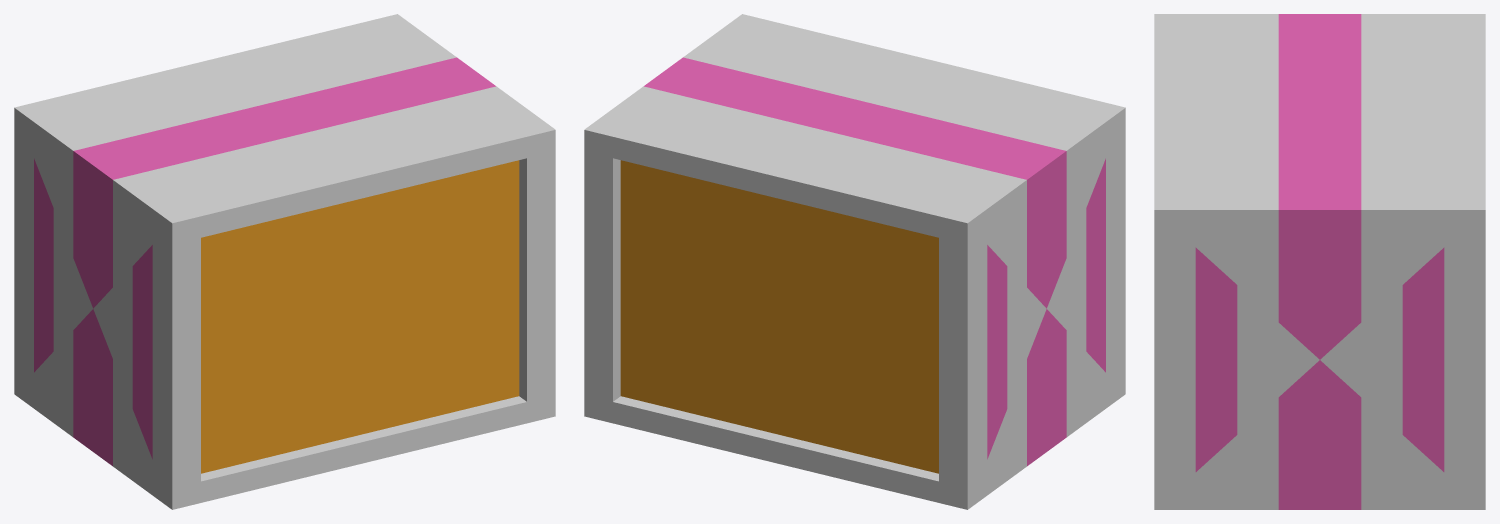
Rendered from Buildings-base3.fbx.
3 renders of one model, left to right at view 1: azimuth 30°, elevation 25°; view 2: azimuth 150°, elevation 25°; view 3: azimuth 270°, elevation 25°, orthographic. The views are drawn at different scales.
Parts seen in each view (by area): view 1: BuildingBase3; view 2: BuildingBase3; view 3: BuildingBase3.
Part boxes in pixels (x1,y1,x2,y2): BuildingBase3: [14, 14, 555, 509]; BuildingBase3: [584, 14, 1125, 509]; BuildingBase3: [1154, 14, 1485, 509].
Bounding box in the file's own units: 70 × 50 × 50.
